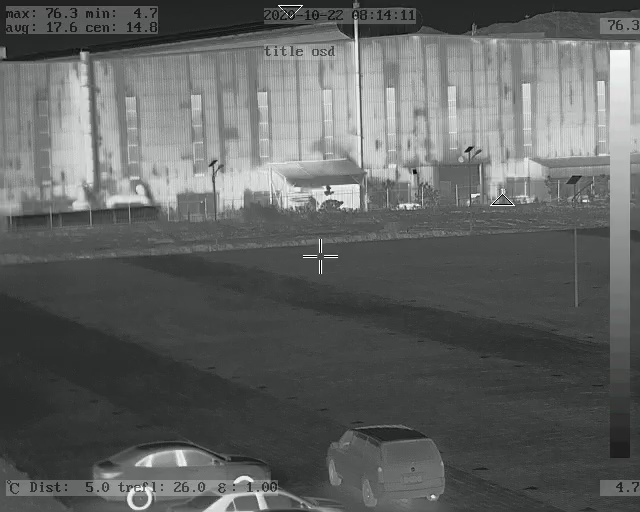vehicle: (92, 438, 272, 510), (326, 425, 445, 504)
